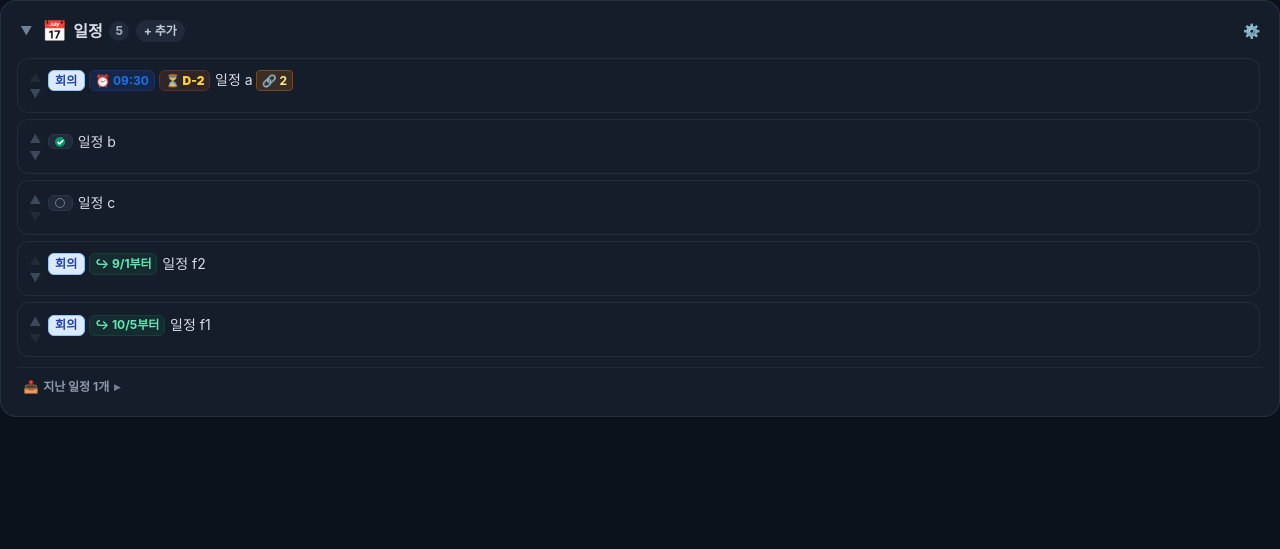
이월 (계산 - DESIGN 5-1) › 오늘 칸 아래 '📥 지난 일정 N개' - 따라오지 않는 끝내지 않은 지난 일정, 처음엔 접힘·아무것도 고르지 않음
Click the button "📥 지난 일정 1개 ▸" at {"x": 68, "y": 386}, box [17,374,1263,400]
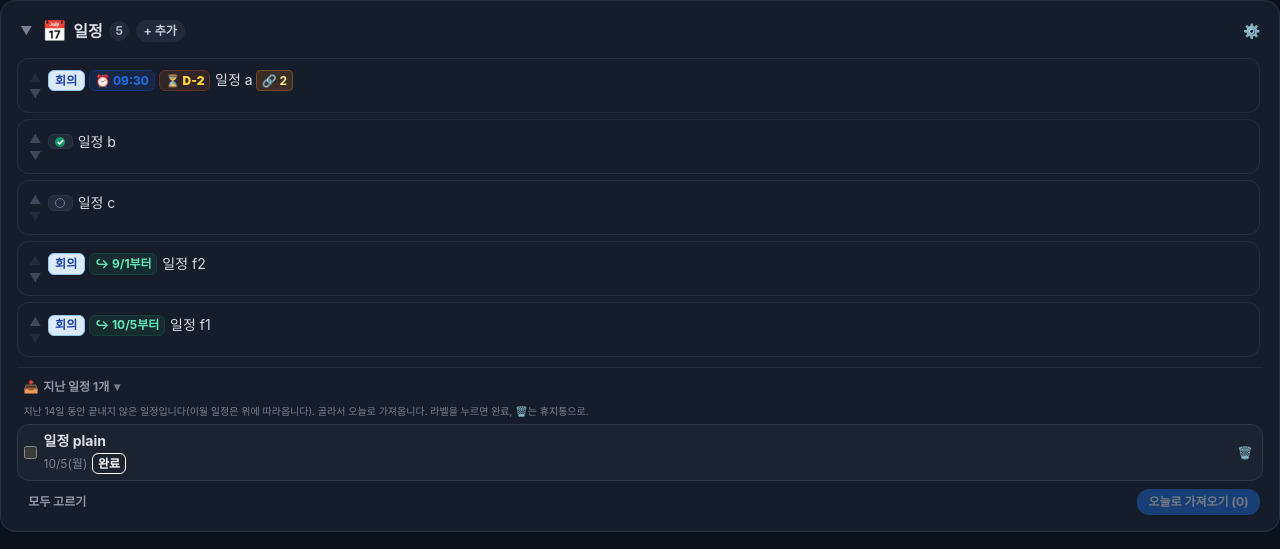
Expected: the checkbox named "오늘로 가져올 일정 고르기" is not checked, [24,446,37,459]
Expected: the button "오늘로 가져오기 (0)" is disabled, [1137,490,1260,515]
